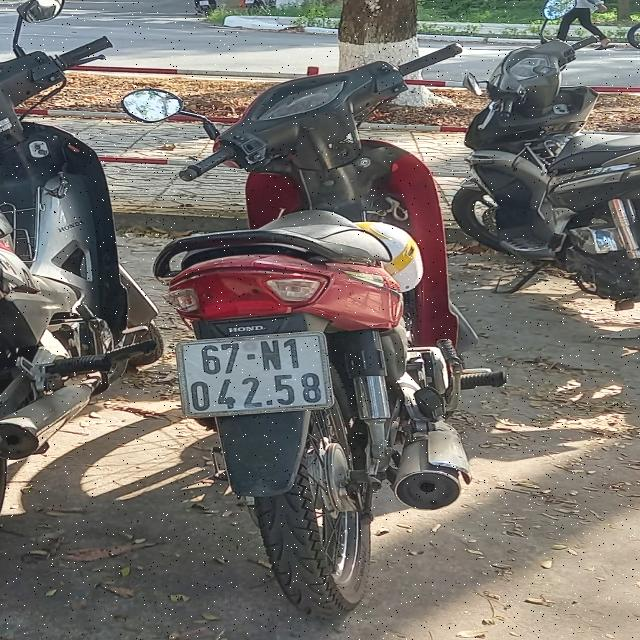0: (190, 378, 212, 414)
1: (280, 337, 304, 369)
2: (240, 376, 265, 408)
4: (218, 378, 239, 408)
5: (273, 374, 297, 406)
6: (201, 345, 222, 374)
7: (220, 341, 240, 375)
8: (300, 371, 324, 403)
N: (258, 338, 282, 372)
